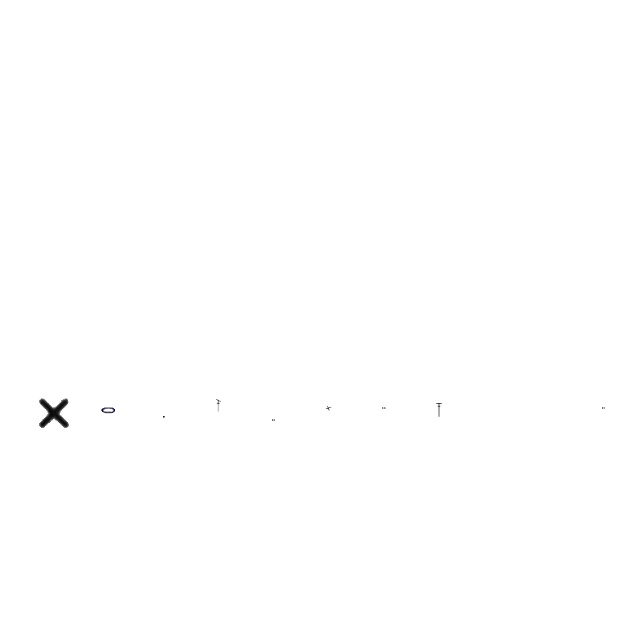chain: (100, 404, 118, 416), (272, 419, 276, 421), (382, 407, 386, 409), (602, 407, 606, 409), (163, 416, 165, 418)
double: (36, 393, 72, 431), (326, 405, 332, 411)
double treble: (436, 403, 442, 417), (216, 400, 222, 412)
